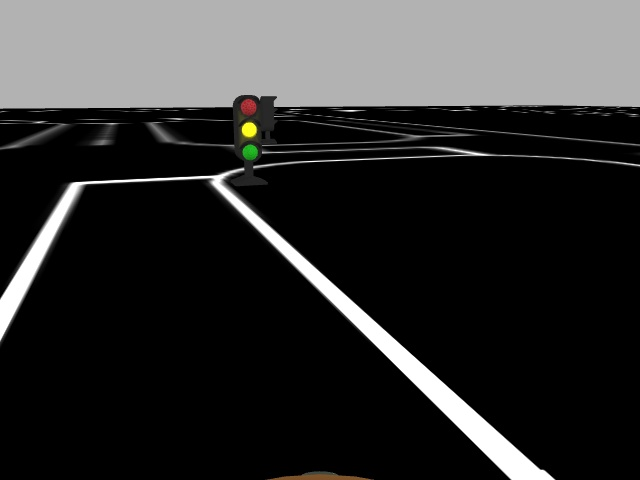yellow_light: (230, 94, 264, 163)
